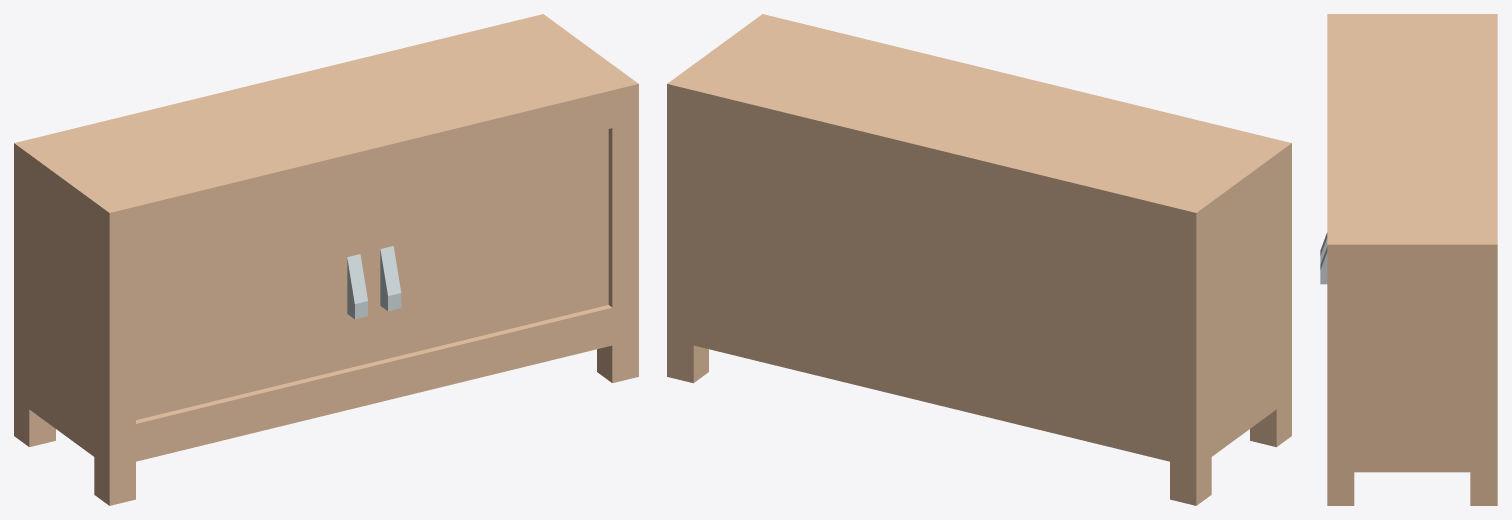
File: storage.glb
3 views of the same model, side by side, from view 1: azimuth 30°, elevation 25°; view 2: azimuth 150°, elevation 25°; view 3: azimuth 270°, elevation 25° (orthographic). The views are drawn at different scales.
Parts seen in each view (by area): view 1: Empty.001; view 2: Empty.001; view 3: Empty.001.
Boxes of the visible parts, x1,y1,x2,y2 form: Empty.001: [14, 14, 638, 505]; Empty.001: [667, 14, 1291, 505]; Empty.001: [1320, 14, 1497, 505].
Size of the model in its own units: 1.77 by 0.9364 by 0.5754.
